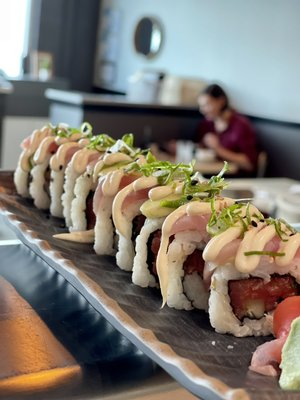pizza: (175, 139, 197, 164)
